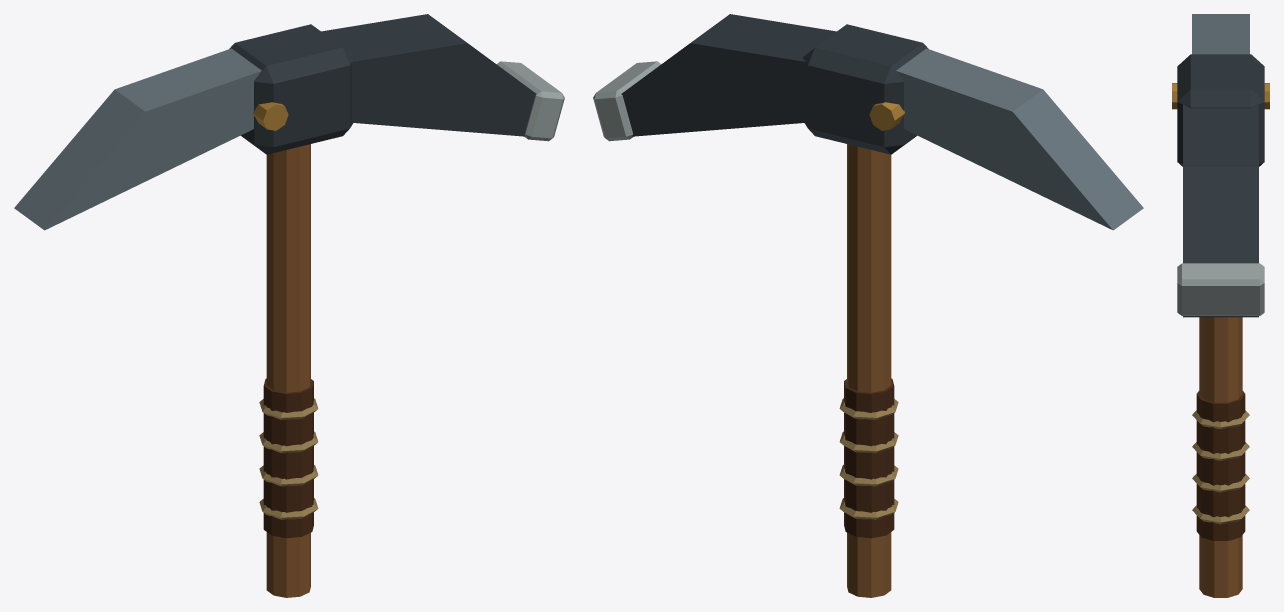
Rendered from Pick.glb.
The picture shows the model from 3 angles, left to right: view 1: azimuth 30°, elevation 25°; view 2: azimuth 150°, elevation 25°; view 3: azimuth 270°, elevation 25°; orthographic projection. The views are drawn at different scales.
Visible parts, largest first — view 1: Sculpture; view 2: Sculpture; view 3: Sculpture.
Boxes of the visible parts, x1,y1,x2,y2 form: Sculpture: [14, 14, 564, 597]; Sculpture: [593, 14, 1143, 597]; Sculpture: [1172, 14, 1269, 597].
Size of the model in its own units: 0.9724 by 0.98 by 0.168.
